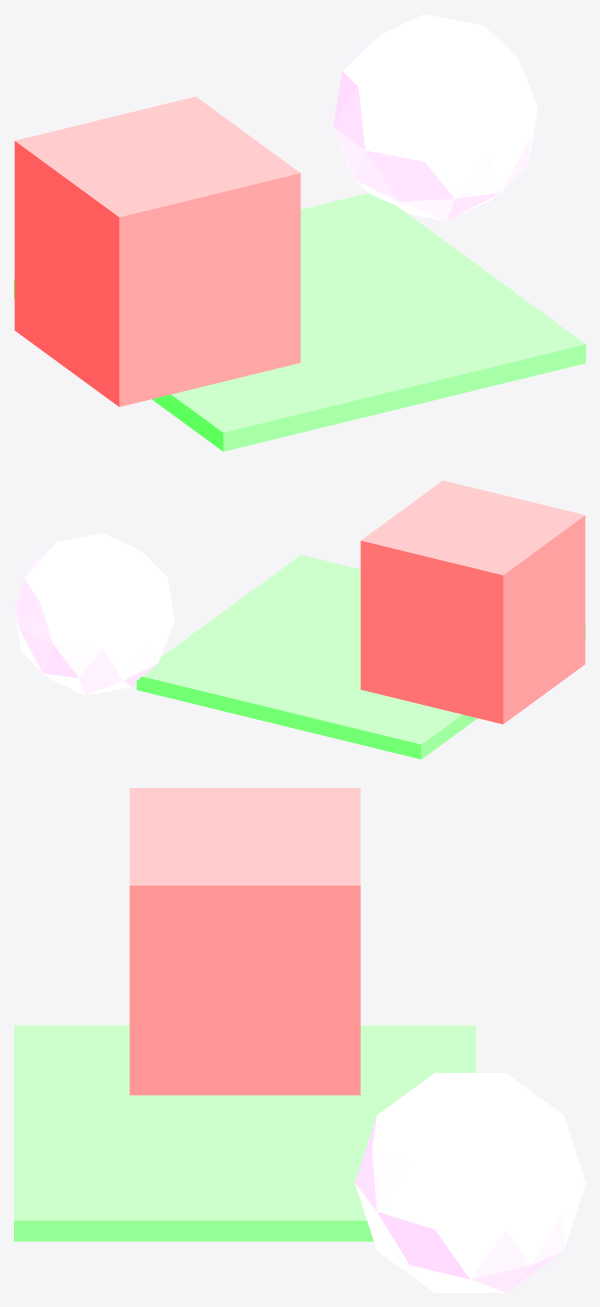
Rendered from parent2.glb.
3 views of the same model, one above another, from view 1: azimuth 30°, elevation 25°; view 2: azimuth 150°, elevation 25°; view 3: azimuth 270°, elevation 25° (orthographic). The views are drawn at different scales.
Parts seen in each view (by area): view 1: Cube, Cube.001, Icosphere; view 2: Cube, Cube.001, Icosphere; view 3: Cube, Cube.001, Icosphere.
Part boxes in pixels (x1,y1,x2,y2): Cube: [14, 96, 300, 406]; Cube.001: [14, 193, 585, 451]; Icosphere: [333, 14, 537, 220]; Cube: [360, 480, 585, 724]; Cube.001: [136, 555, 585, 759]; Icosphere: [14, 533, 174, 695]; Cube: [129, 788, 360, 1095]; Cube.001: [14, 1025, 476, 1241]; Icosphere: [355, 1073, 585, 1292].
Bounding box in the file's own units: 6.14 × 2.35 × 4.95.
